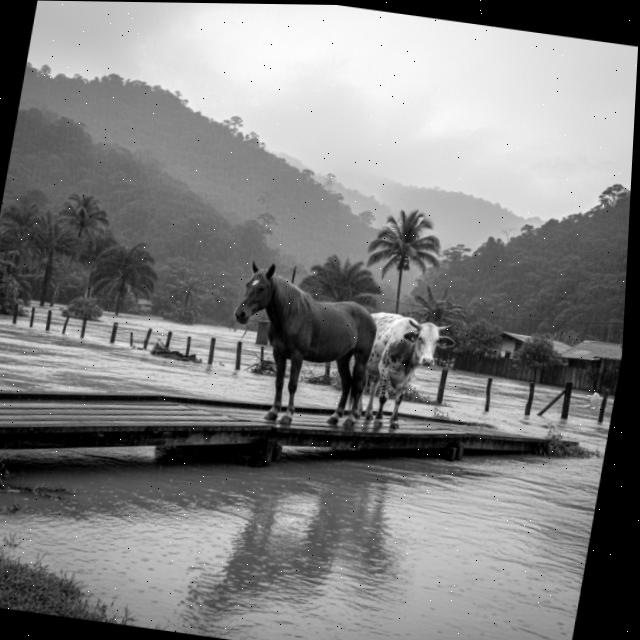cow: (337, 297, 465, 442)
horse: (208, 256, 397, 440)
